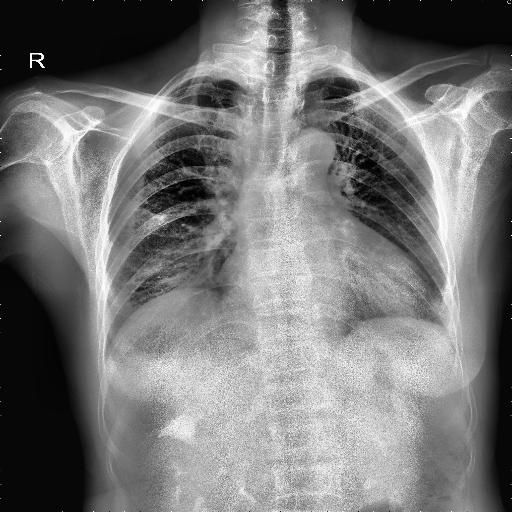0- Aortic enlargement: (292, 129, 338, 169), (295, 126, 336, 170)
3- Cardiomegaly: (216, 250, 436, 320), (214, 256, 438, 322), (218, 260, 432, 322)
